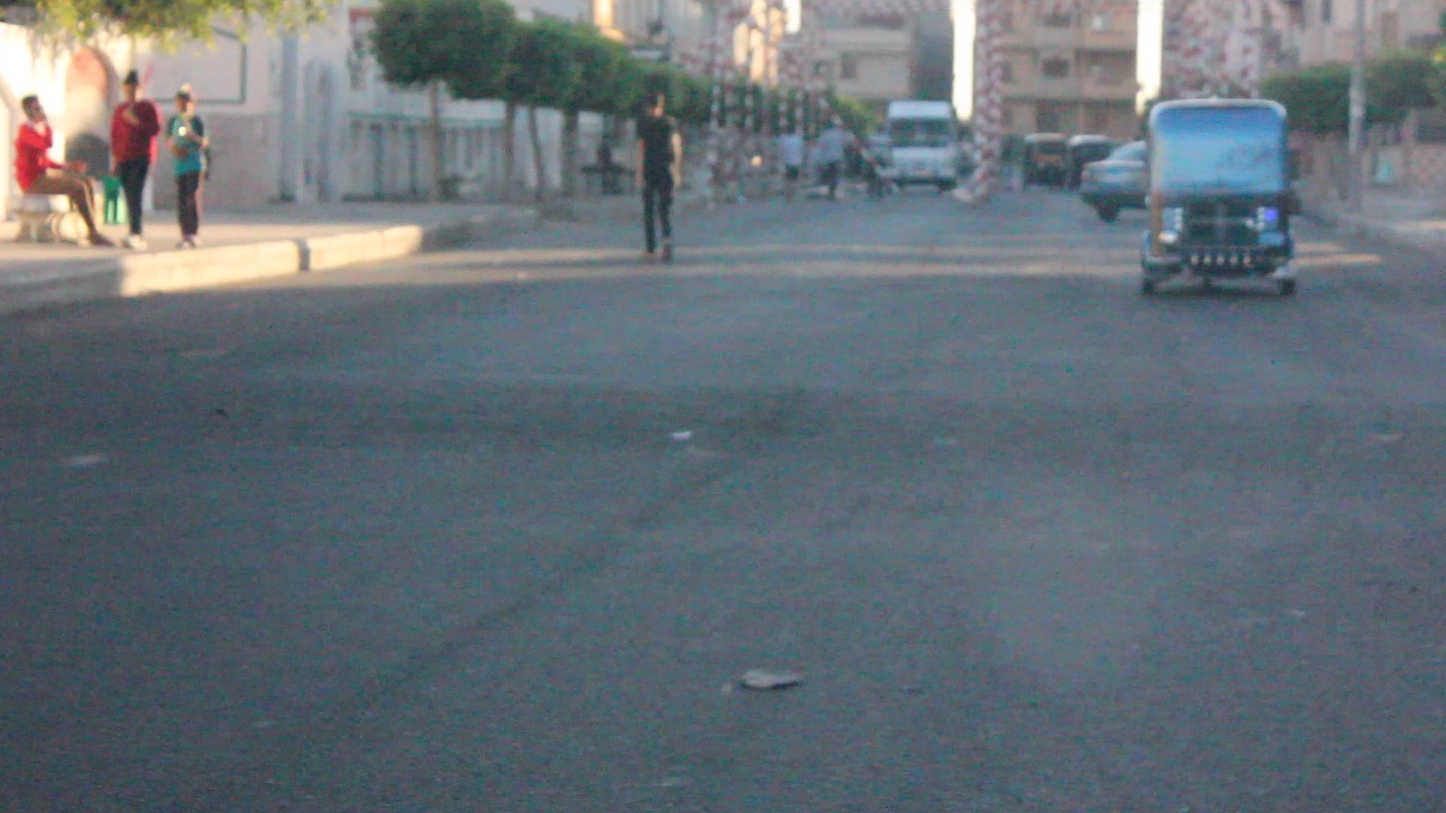Bump: (0, 343, 1446, 519)
